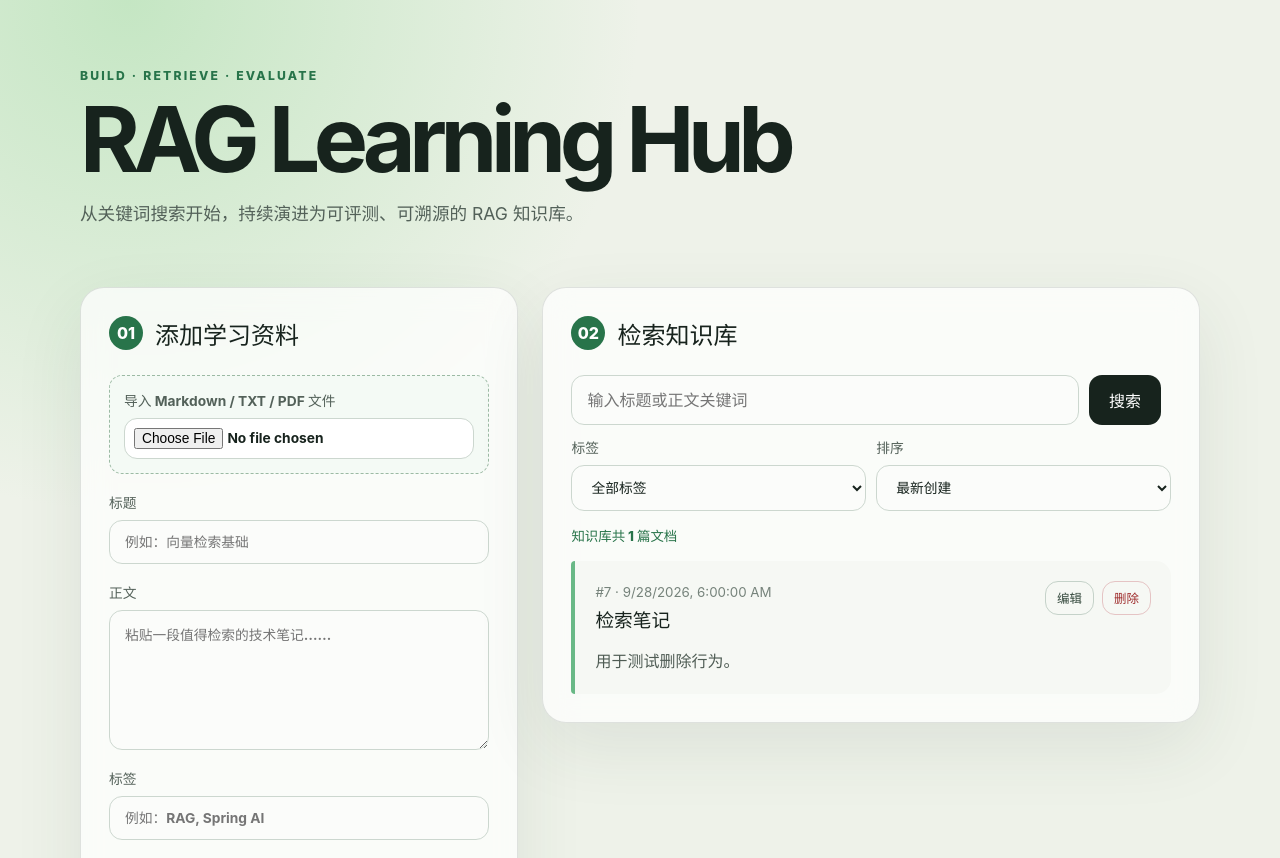
Scenario: App › deletes a confirmed document and refreshes the results
Click the button with aria-label "删除检索笔记" at x=1126, y=598, box [1102,581,1151,615]
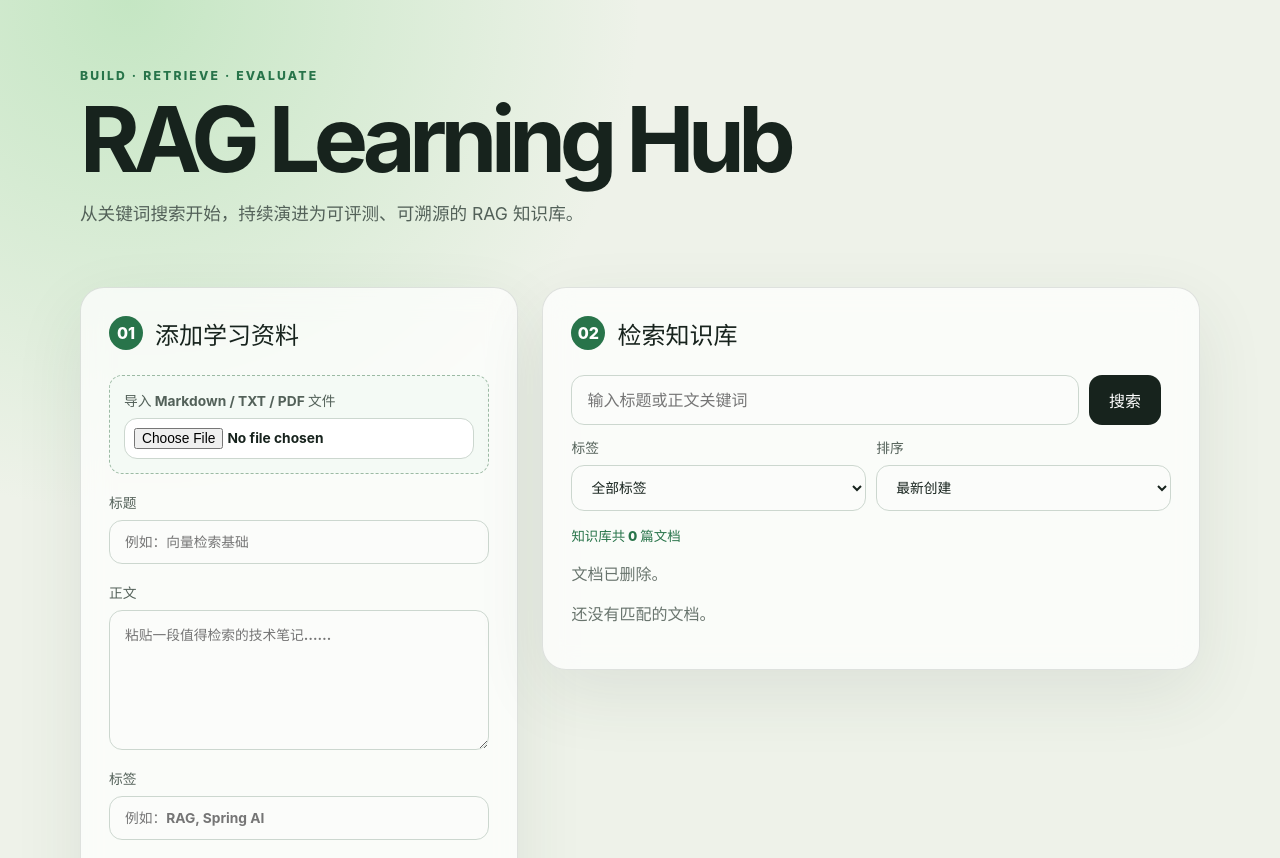
Expected: no elements with class "document" are shown
Expected: the text "文档已删除。" is shown, [571,564,667,584]
